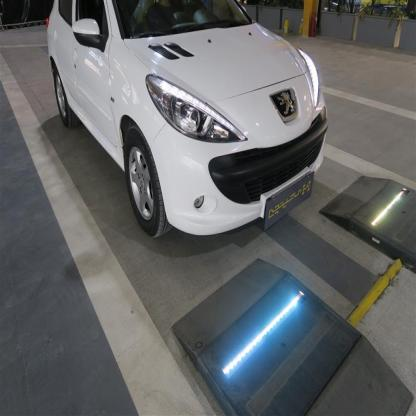Car: (13, 0, 334, 244)
